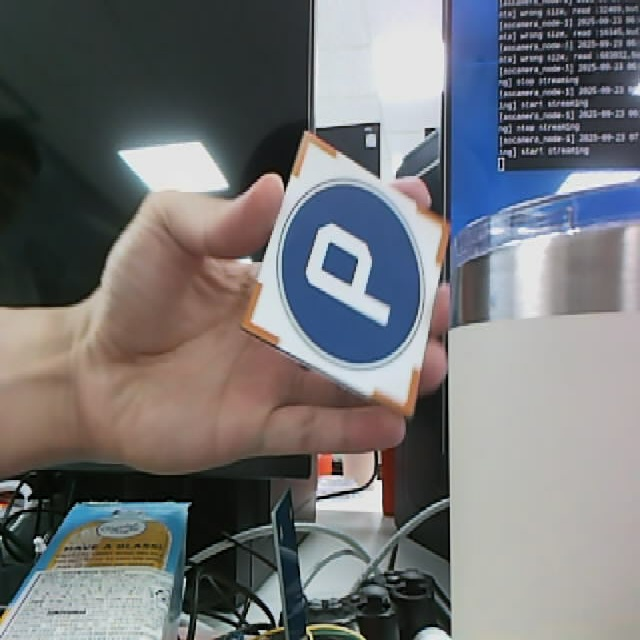parking: (241, 127, 451, 418)
